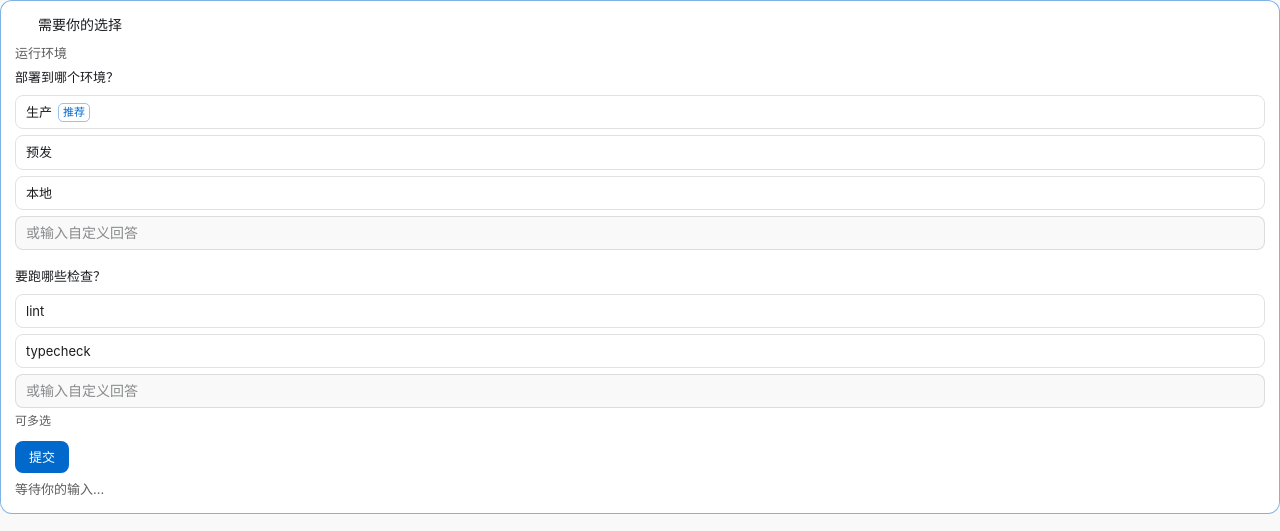
UiRequestCard · ask › 提交失败保留表单可重试
This screenshot has width=1280, height=531.
Click the button "提交" at (42, 457), box [15,441,69,473]
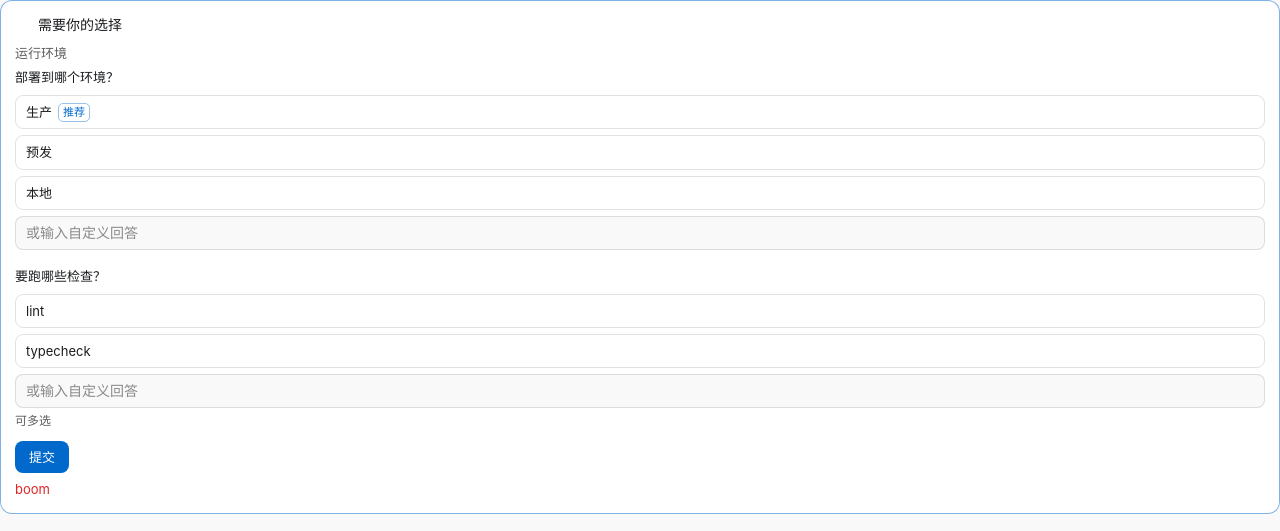
Expected: the text "已回答" is not shown
Now the text "boom" is shown, box [15,481,50,497]
Note: 再次提交成功 → 进已答态
Click the button "提交" at (42, 457), box [15,441,69,473]
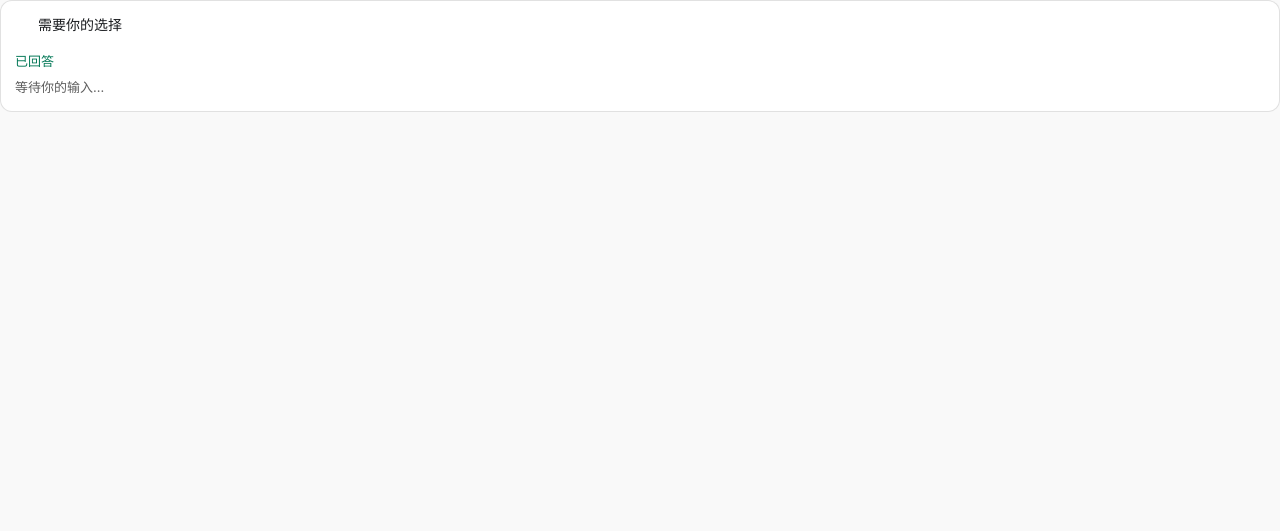
Now the text "已回答" is shown, box [15,53,54,69]
